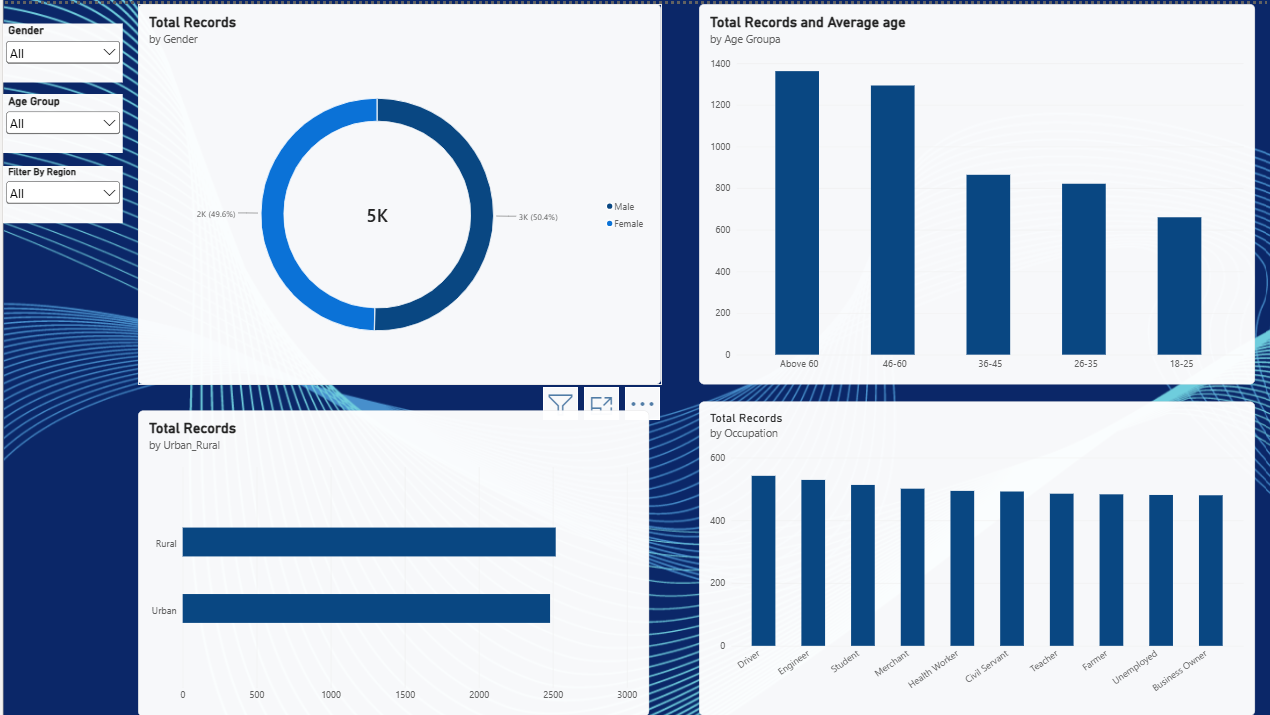

The dashboard page shown, as its layout file describes it:
{"tool":"powerbi","page":{"name":"Demographic Analysis","canvas":[1920,1080],"ordinal":3},"visuals":[{"type":"donutChart","fields":{"Category":["Dataset_5000.Gender"],"Y":["Dataset_5000.Total Records"]},"box":[205.3,0,792.1,576.3],"z":0},{"type":"clusteredColumnChart","fields":{"Category":["Dataset_5000.Age Groupa"],"Y":["Dataset_5000.Total Records"]},"box":[1053.9,0,842.1,576.3],"z":1000},{"type":"clusteredBarChart","fields":{"Category":["Dataset_5000.Urban_Rural"],"Y":["Dataset_5000.Total Records"]},"box":[205.3,615.8,773.7,463.2],"z":2000},{"type":"clusteredColumnChart","fields":{"Category":["Dataset_5000.Occupation"],"Y":["Dataset_5000.Total Records"]},"box":[1053.9,601.9,842.1,476.3],"z":3000},{"type":"slicer","fields":{"Values":["Dataset_5000.Gender"]},"box":[0,28.9,181.6,89.5],"z":4000},{"type":"slicer","fields":{"Values":["Dataset_5000.Age Groupa"]},"box":[0,136.8,181.6,89.5],"z":5000},{"type":"slicer","fields":{"Values":["Dataset_5000.Region"]},"box":[0,244.7,181.6,86.8],"z":6000}]}

Visuals, with their boxes in screenshot pixels (x1, y1, x2, y2), scaled from the page's 1920x1080 canvas onto the 1270x715 screenshot:
donutChart - Dataset_5000.Gender x Dataset_5000.Total Records: (136, 0, 660, 382)
clusteredColumnChart - Dataset_5000.Age Groupa x Dataset_5000.Total Records: (697, 0, 1254, 382)
clusteredBarChart - Dataset_5000.Urban_Rural x Dataset_5000.Total Records: (136, 408, 648, 714)
clusteredColumnChart - Dataset_5000.Occupation x Dataset_5000.Total Records: (697, 398, 1254, 714)
slicer - Dataset_5000.Gender: (0, 19, 120, 78)
slicer - Dataset_5000.Age Groupa: (0, 91, 120, 150)
slicer - Dataset_5000.Region: (0, 162, 120, 219)
